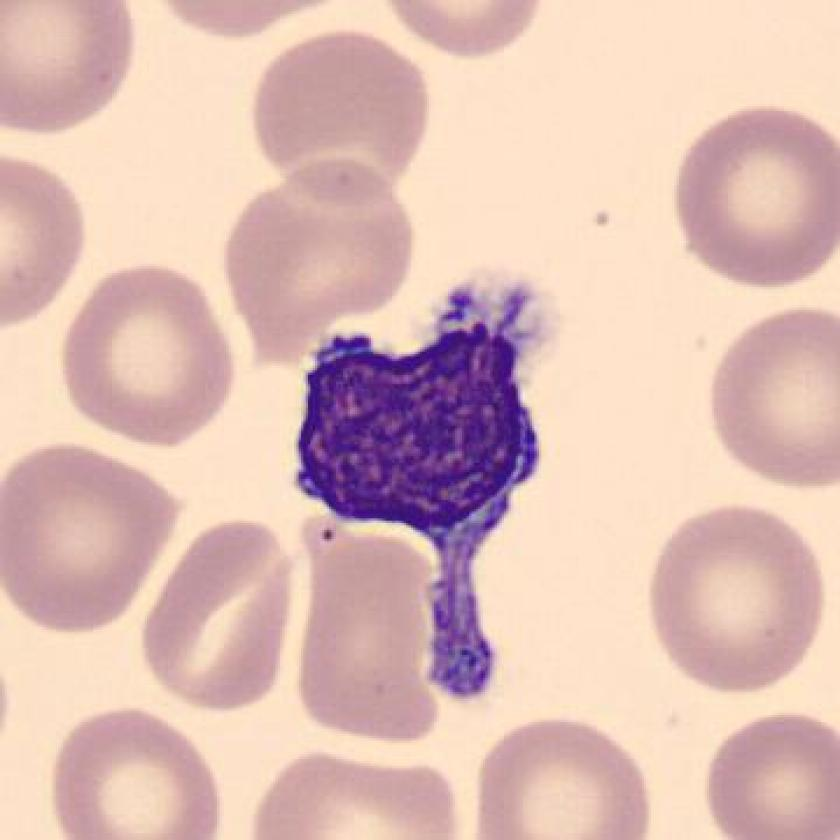lymphocyte: (260, 253, 570, 716)
